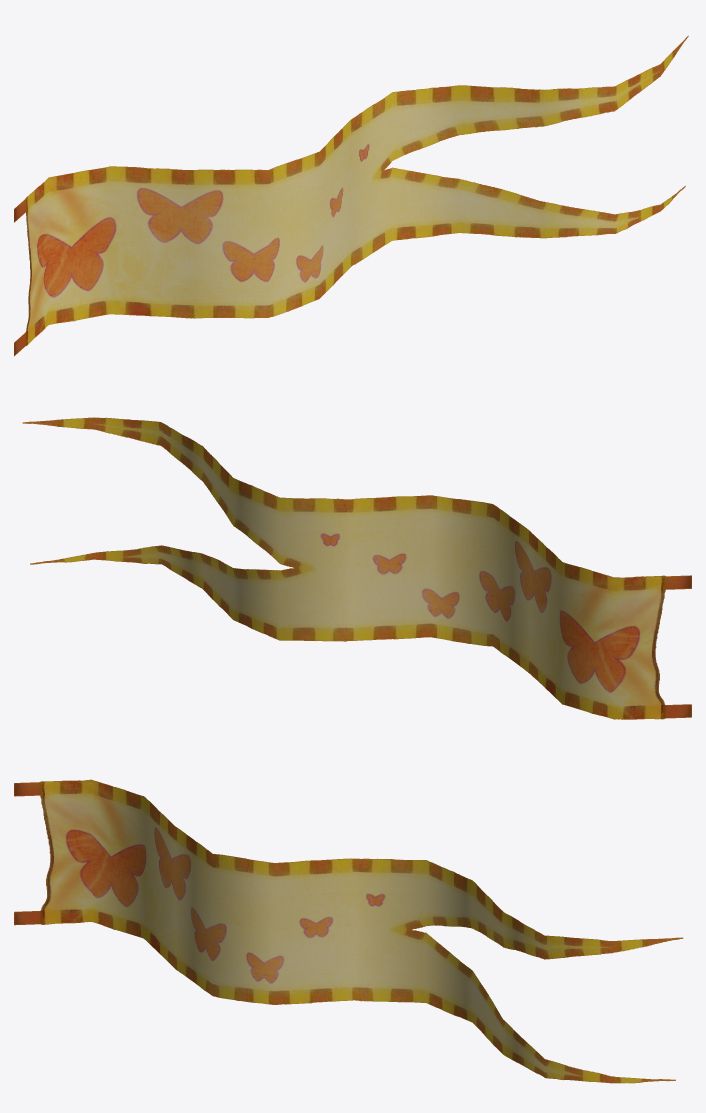
The model's file is castle_banner.obj.
3 views of the same model, one above another, from view 1: azimuth 30°, elevation 25°; view 2: azimuth 150°, elevation 25°; view 3: azimuth 330°, elevation 25° (orthographic). The views are drawn at different scales.
Parts seen in each view (by area): view 1: castle_banner; view 2: castle_banner; view 3: castle_banner.
Part boxes in pixels (x1,y1,x2,y2): castle_banner: [14, 35, 688, 356]; castle_banner: [22, 417, 691, 719]; castle_banner: [14, 779, 683, 1083].
Size of the model in its own units: 280 by 70 by 34.83.
1 material, 1 textured.
